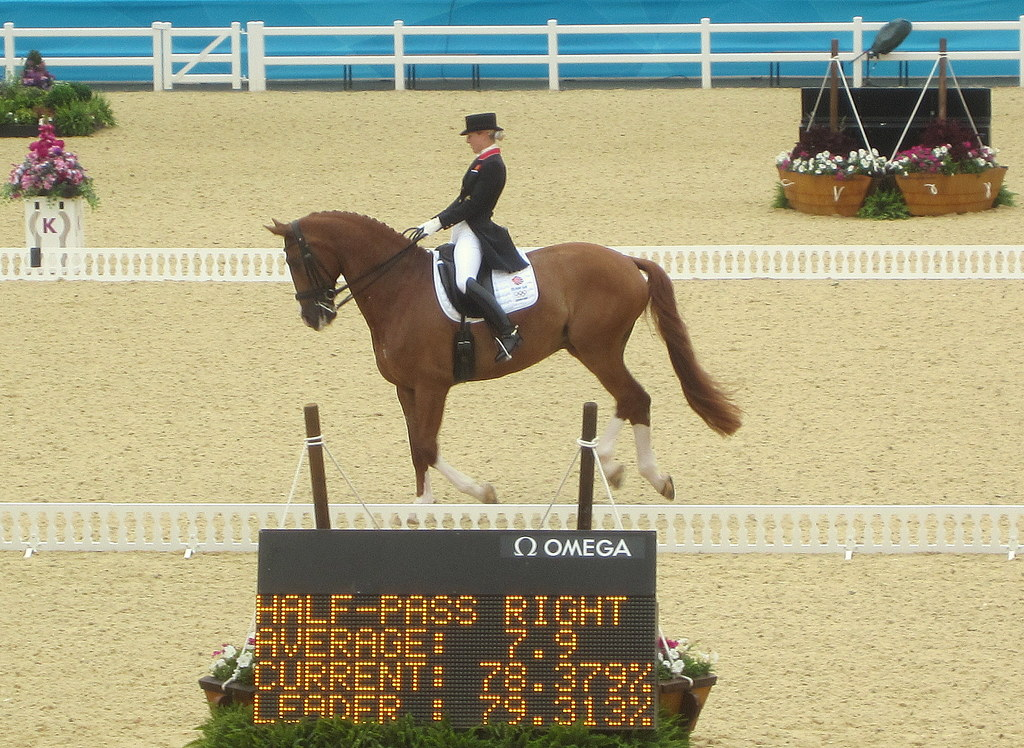Person: (416, 112, 530, 363)
